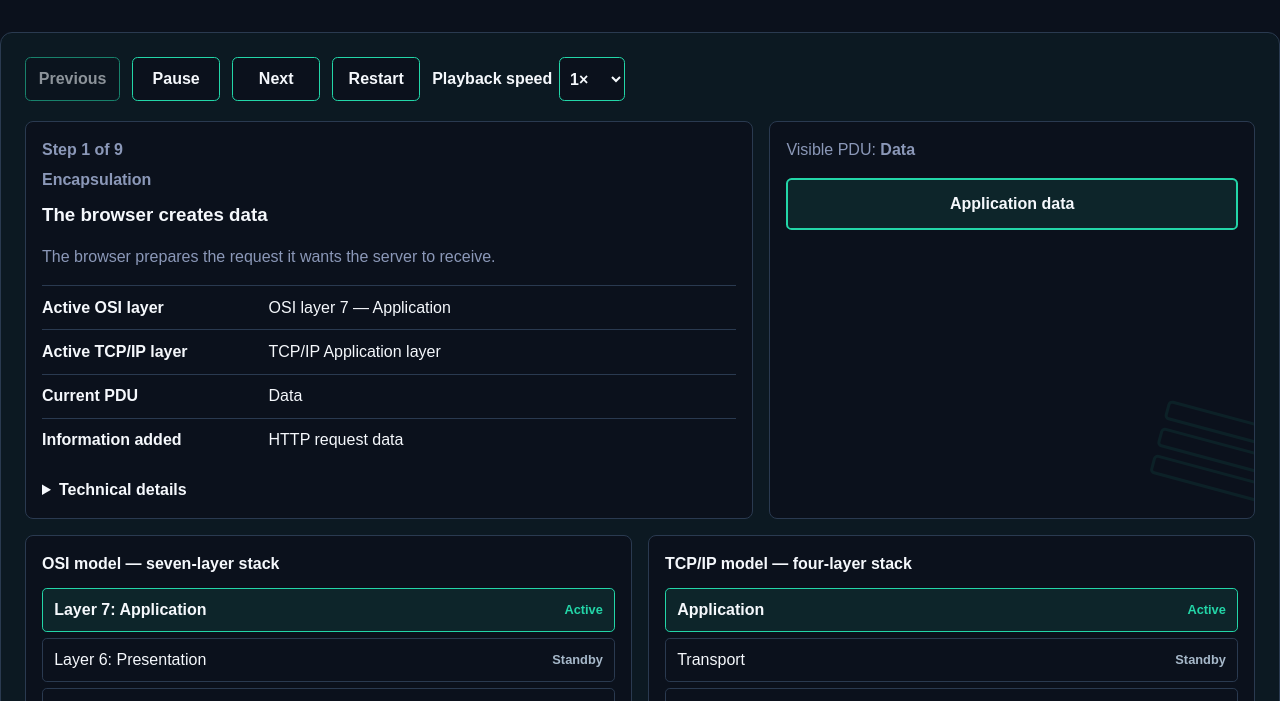
Test: EncapsulationPlayer › uses native expandable details and keeps a polite status region permanently mounted
Expected: the text "The browser prepares the request it wants the server to receive." is shown, [42,248,496,265]
Expected: the text "HTTP produces application data" is not shown
Click the heading "Technical details": (123, 490) [59,481,187,498]
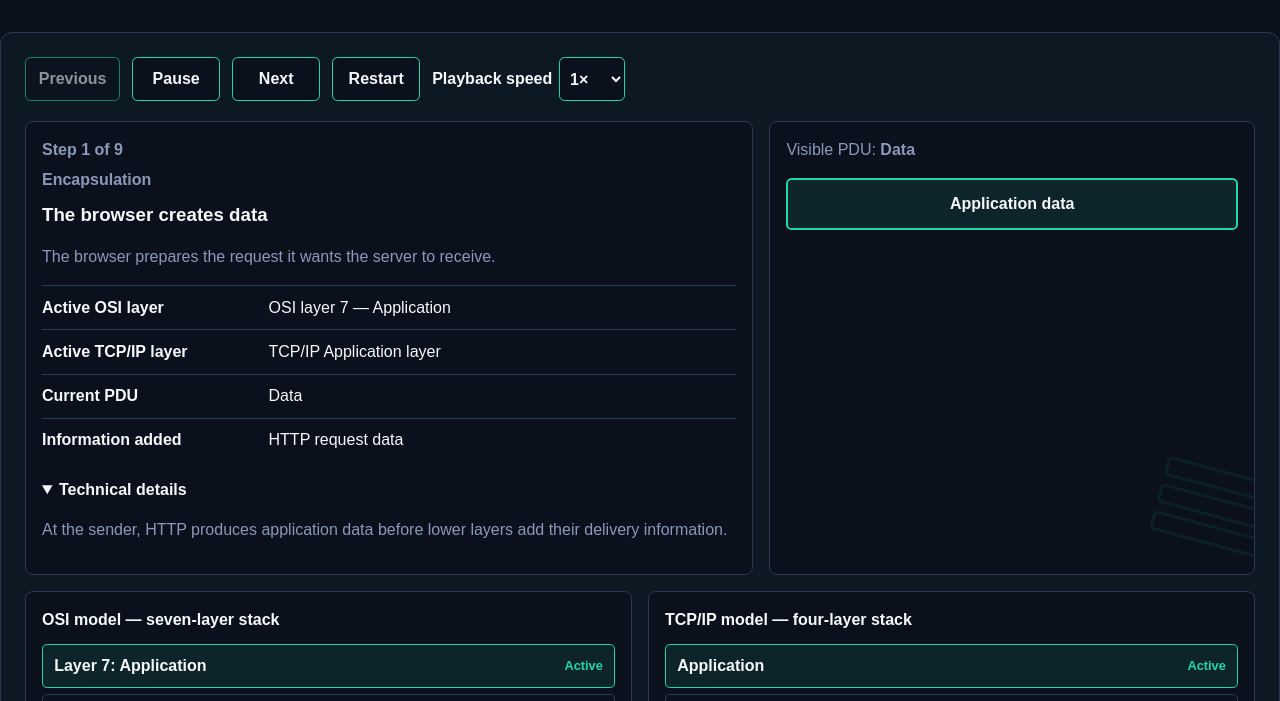
Expected: the text "HTTP produces application data" is shown, [42,521,727,538]
